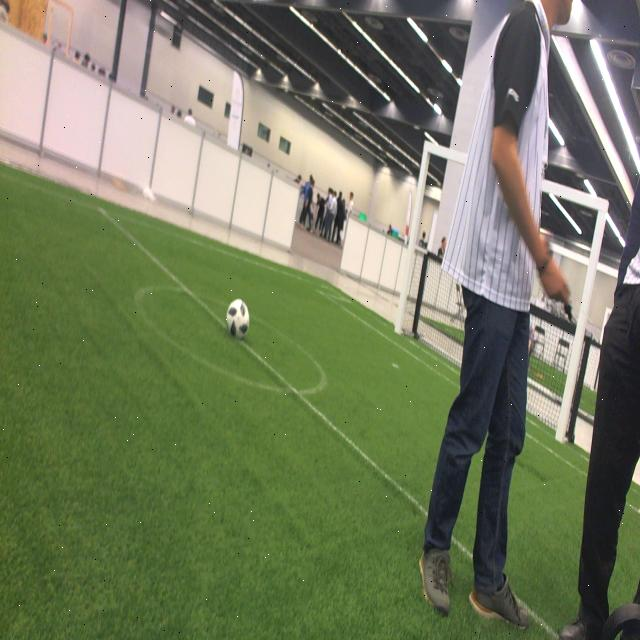ball: (226, 299, 248, 341)
goalpost: (554, 198, 608, 445), (393, 133, 433, 340)
